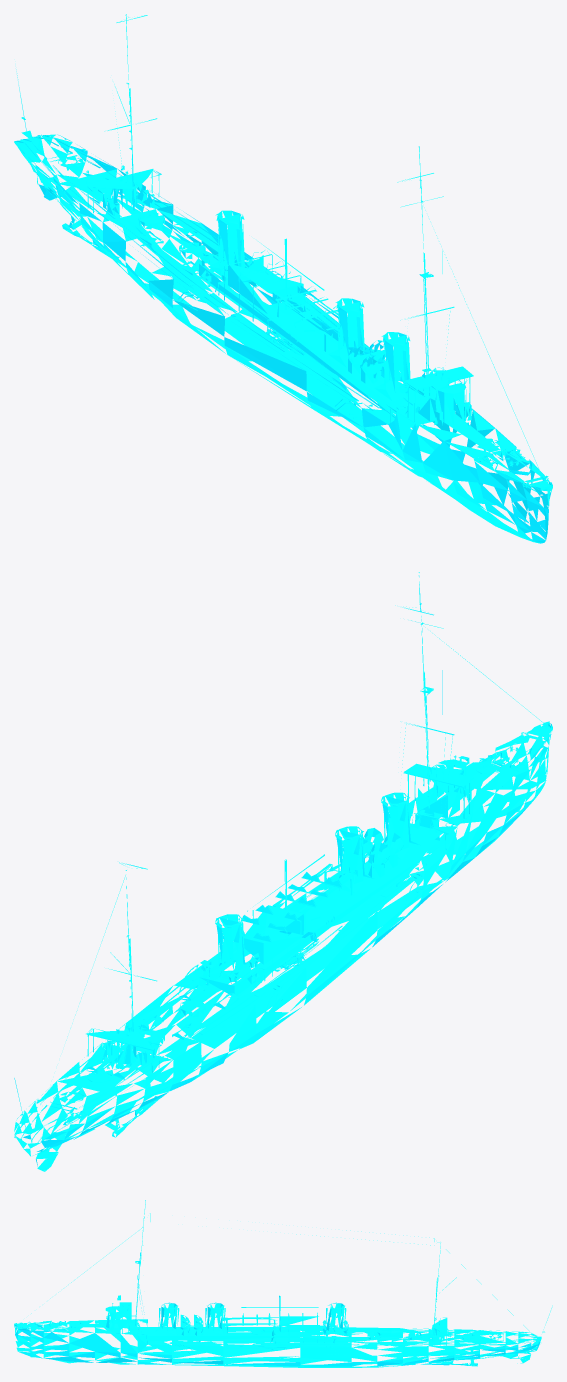
The model's file is SM_Storojevoy.glb.
3 renders of one model, top to bottom at view 1: azimuth 30°, elevation 25°; view 2: azimuth 150°, elevation 25°; view 3: azimuth 270°, elevation 25°, orthographic. The views are drawn at different scales.
Bounding box in the file's own units: 0.6284 × 2.09 × 6.2.
